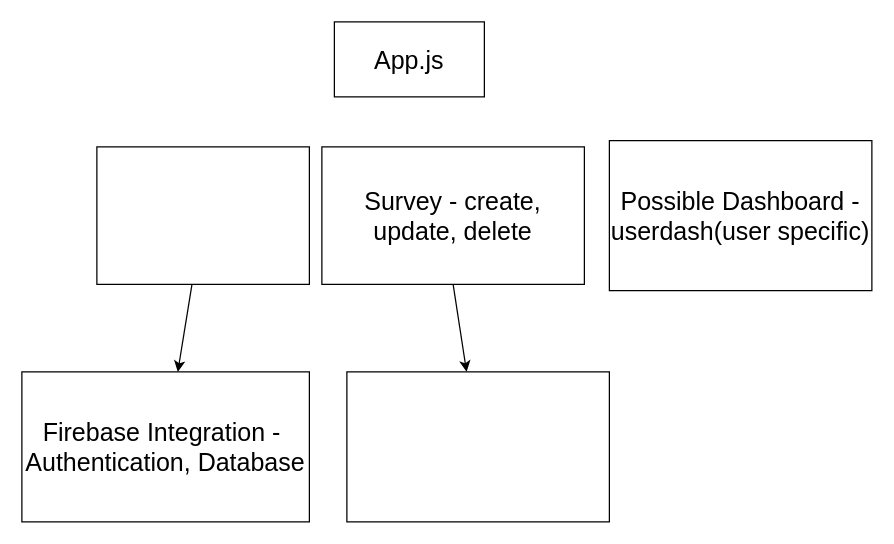
Image size: 894x544. Some labels were removed from this diagram. Here are the shapes that lost their labels. From the top down, the centre of each, then its label:
At [202,215]: "User signup, login,logout".
At [477,446]: "Survey Filling Components - SurveyForm".
